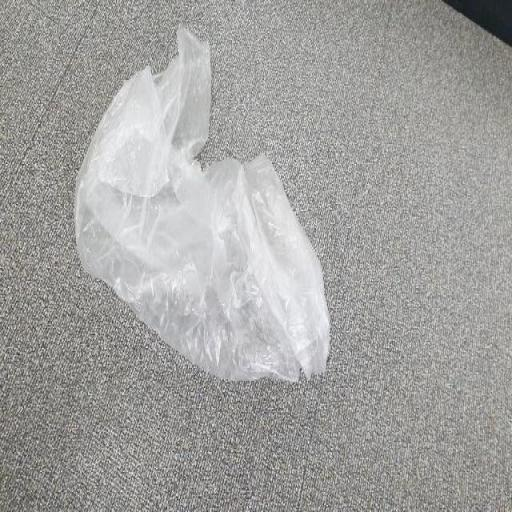plastic-bag: (76, 10, 332, 383)
